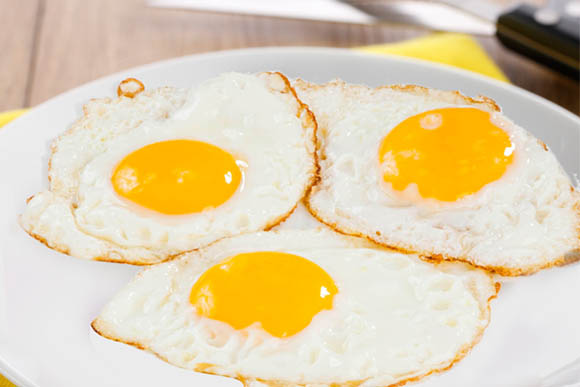fried egg: (179, 251, 454, 384), (343, 102, 526, 256), (120, 118, 282, 239)
